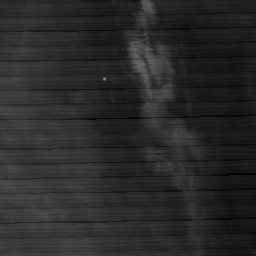Target: (101, 75, 107, 81)
